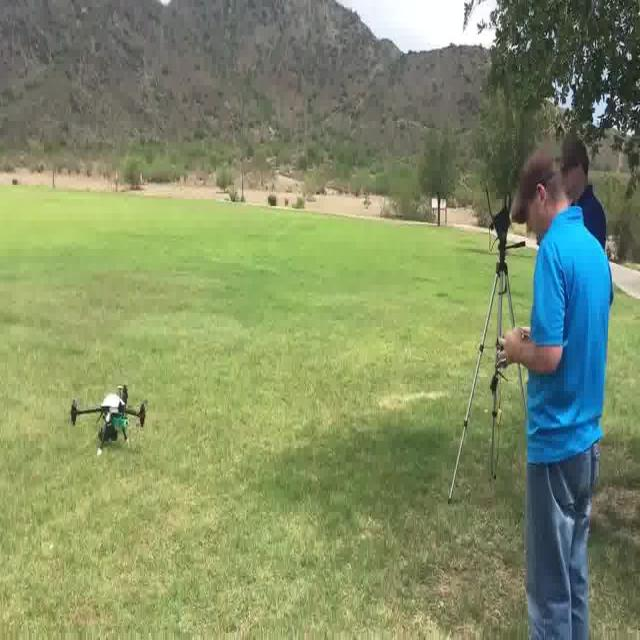drones: (61, 374, 156, 453)
